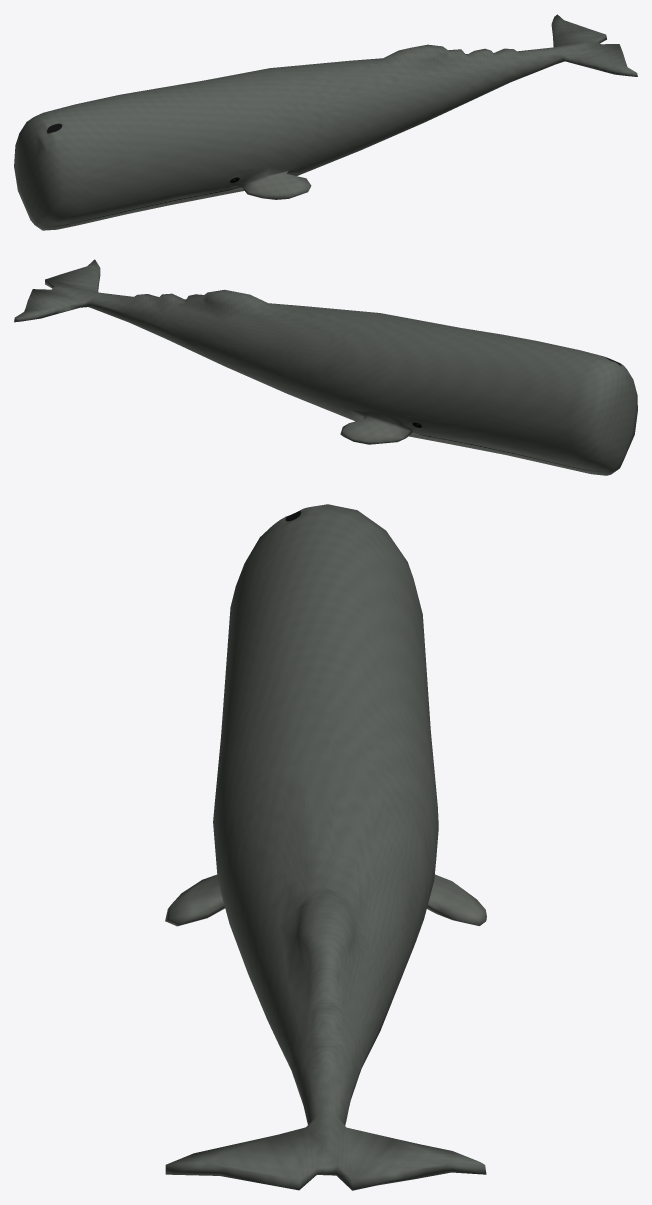
3 renders of one model, top to bottom at view 1: azimuth 30°, elevation 25°; view 2: azimuth 150°, elevation 25°; view 3: azimuth 270°, elevation 25°, orthographic. The views are drawn at different scales.
Parts seen in each view (by area): view 1: NEW413_whole_sperm_whale; view 2: NEW413_whole_sperm_whale; view 3: NEW413_whole_sperm_whale.
Part boxes in pixels (box(x1,y1,x2,y2)): NEW413_whole_sperm_whale: box(14, 14, 637, 230); NEW413_whole_sperm_whale: box(14, 259, 637, 475); NEW413_whole_sperm_whale: box(165, 504, 486, 1190).
Bounding box in the file's own units: 14.88 × 2.89 × 3.53.
1 material, 1 textured.
